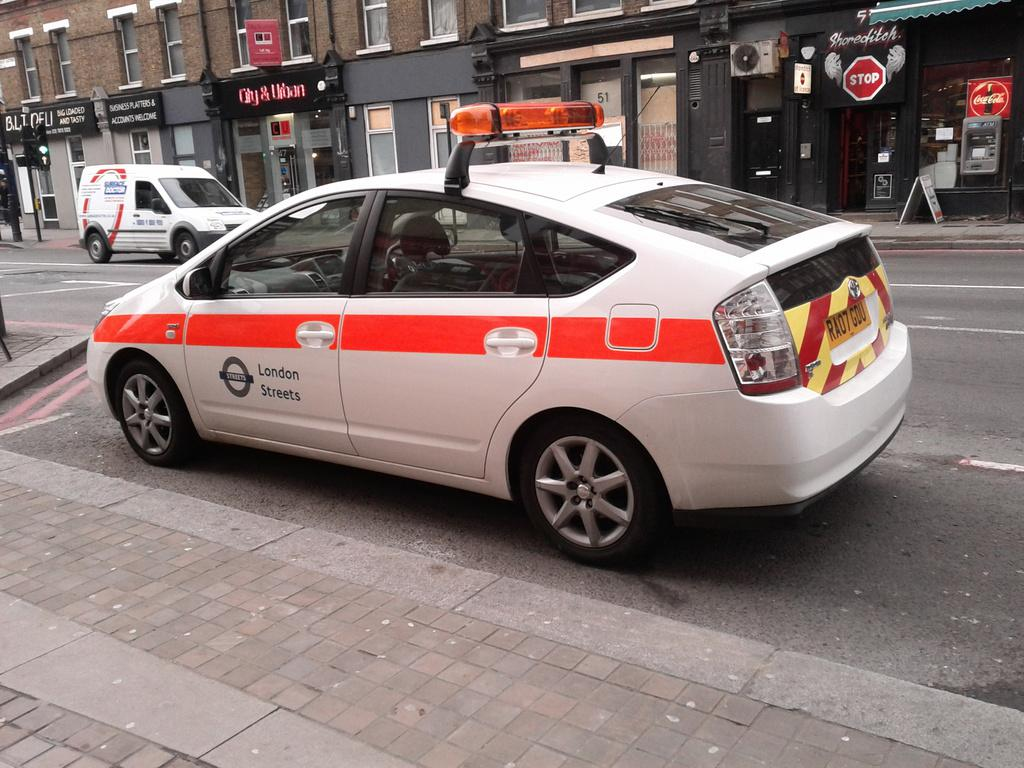taxi: (88, 87, 913, 569)
